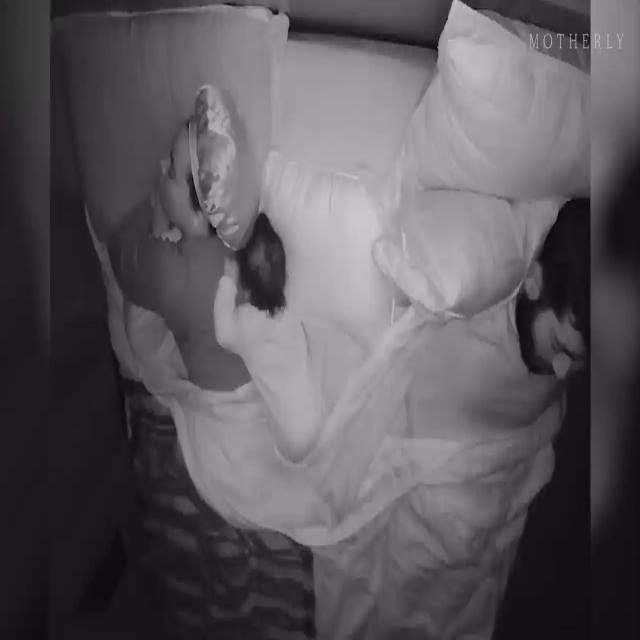baby: (214, 210, 332, 466)
